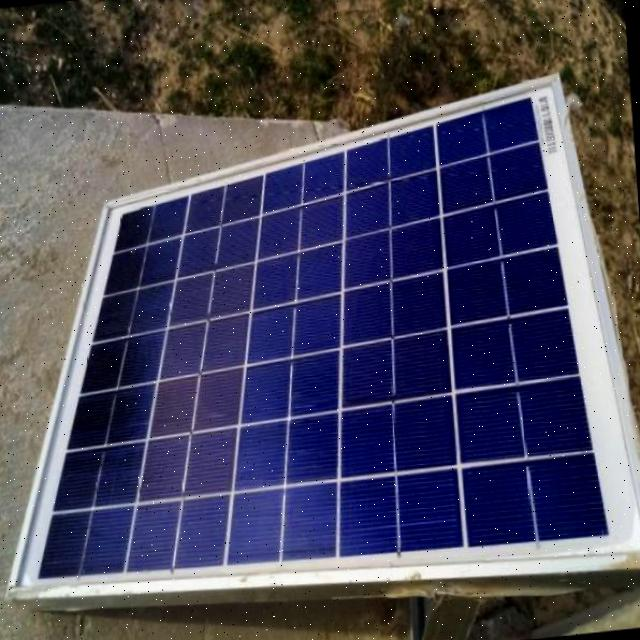Normal Solar Panel: (0, 66, 640, 626)
